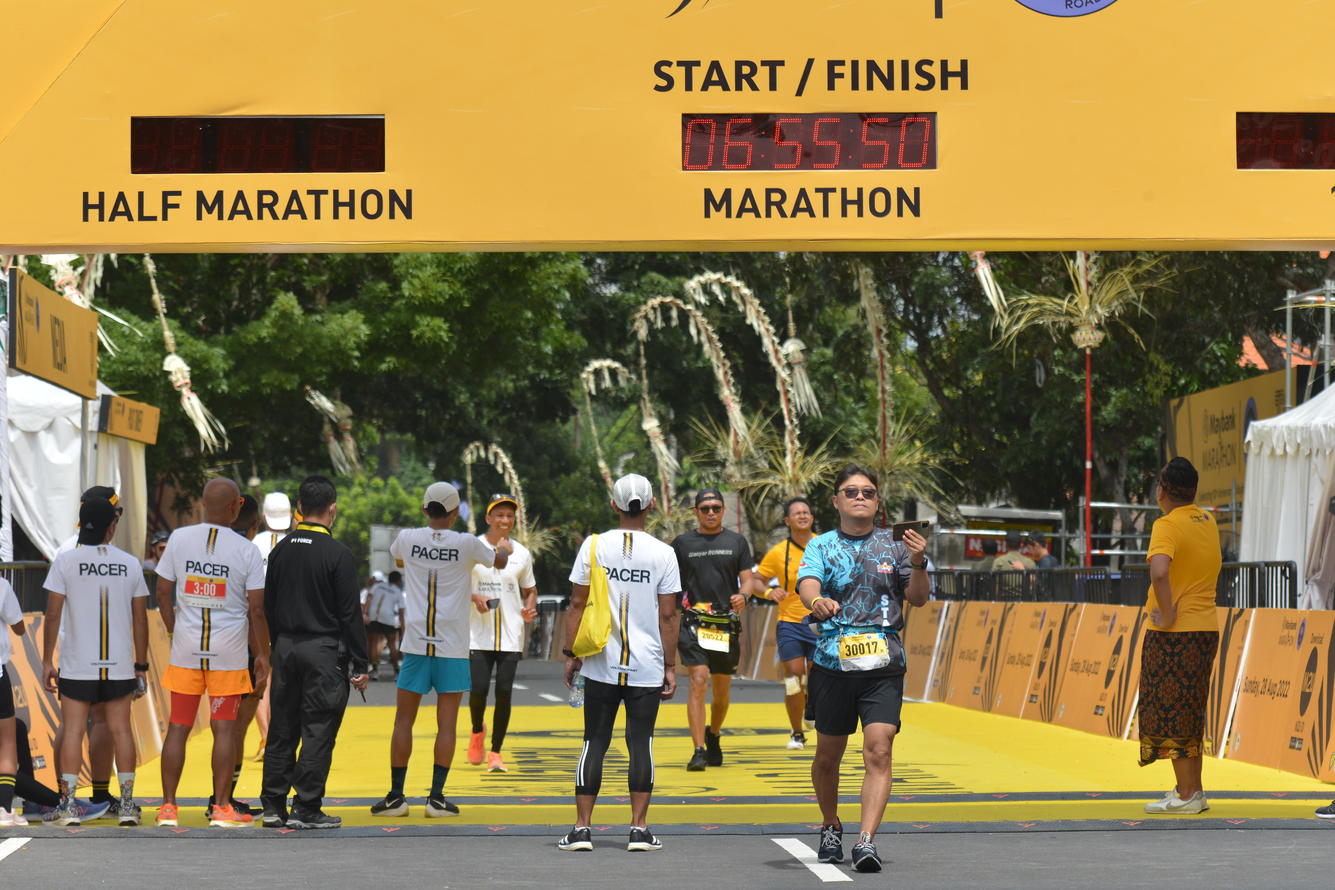bib: (839, 635, 889, 671), (184, 576, 226, 609), (697, 628, 731, 653)
